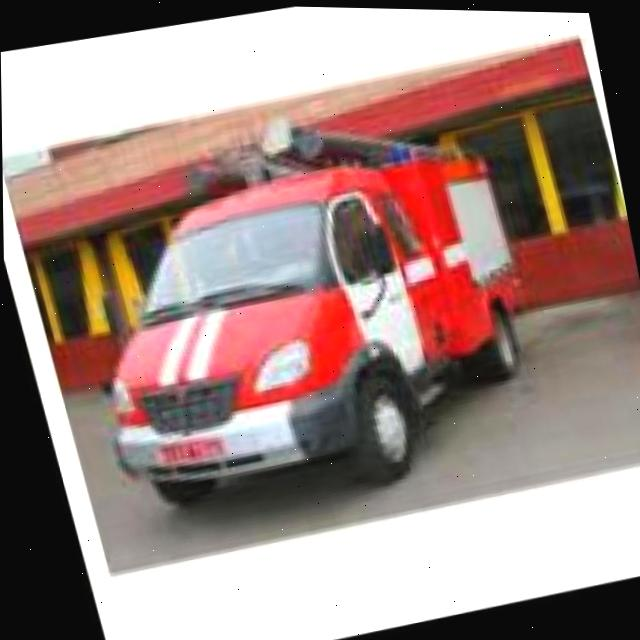emergency: (53, 78, 554, 530)
